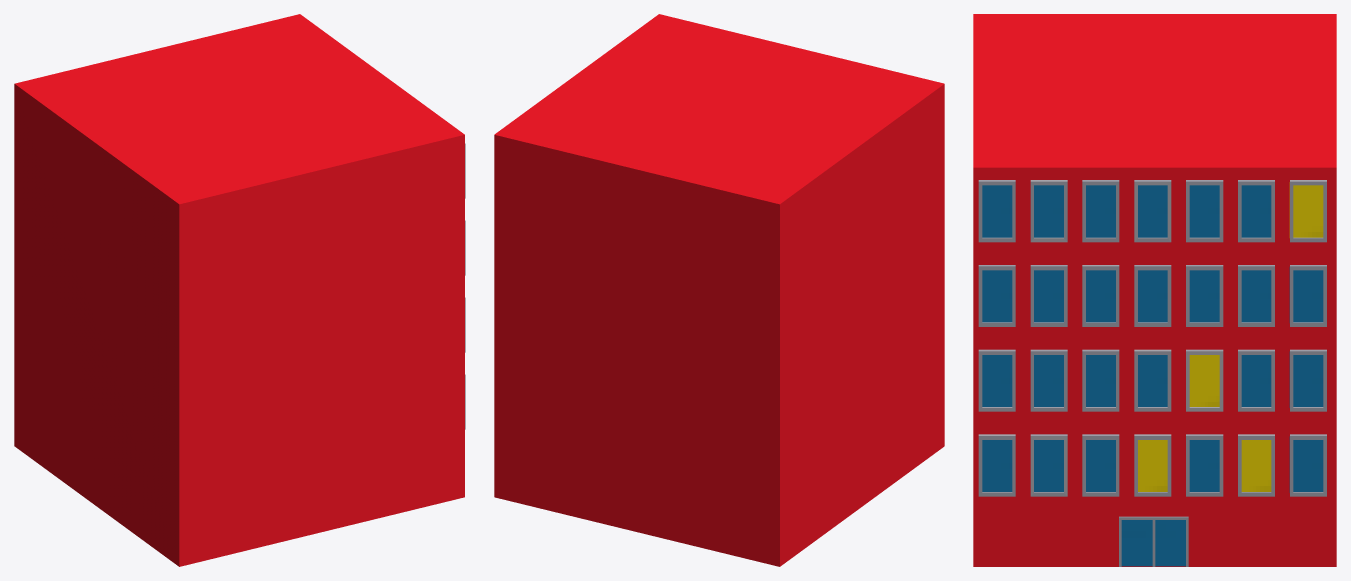
Rendered from short_building.glb.
3 views of the same model, side by side, from view 1: azimuth 30°, elevation 25°; view 2: azimuth 150°, elevation 25°; view 3: azimuth 270°, elevation 25° (orthographic). The views are drawn at different scales.
Parts seen in each view (by area): view 1: ShortBuilding; view 2: ShortBuilding; view 3: ShortBuilding.
Boxes of the visible parts, left/top/right/bottom form: ShortBuilding: left=14, top=14, right=465, bottom=566; ShortBuilding: left=494, top=14, right=944, bottom=566; ShortBuilding: left=973, top=14, right=1336, bottom=566.
Size of the model in its own units: 19.82 by 23.79 by 19.62.
Materials: 4 (4 with a texture image).
